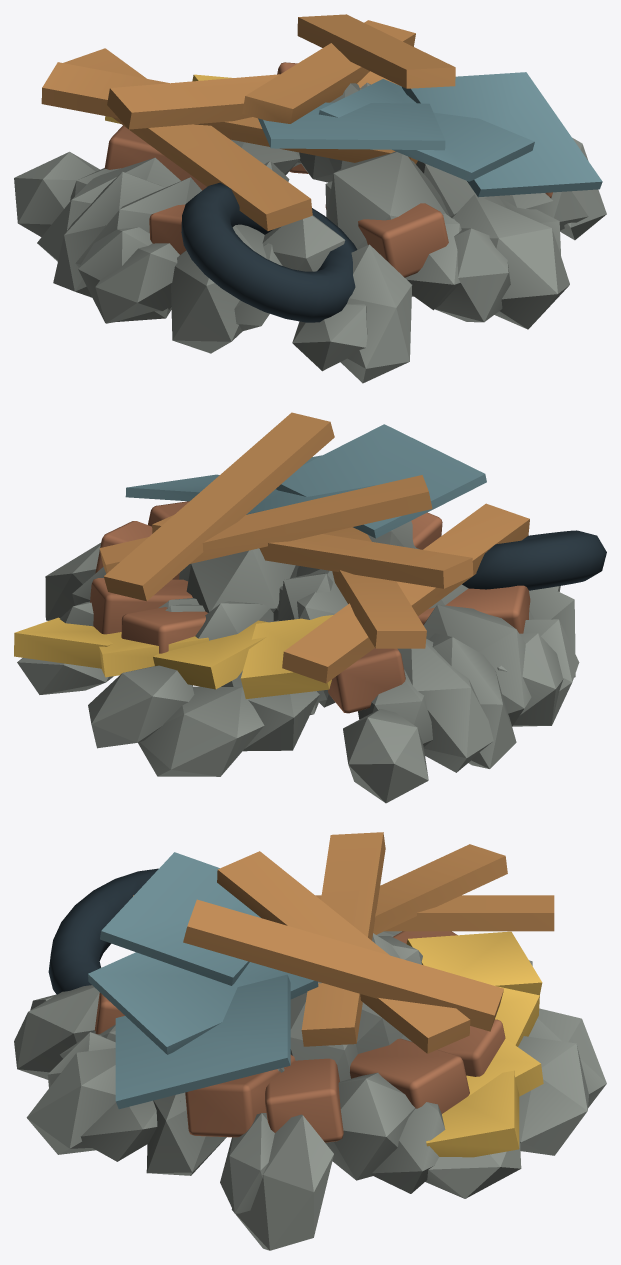
Rendered from industrial-waste.glb.
3 renders of one model, top to bottom at view 1: azimuth 30°, elevation 25°; view 2: azimuth 150°, elevation 25°; view 3: azimuth 270°, elevation 25°, orthographic. The views are drawn at different scales.
Parts seen in each view (by area): view 1: broken concrete, splintered pallet plank, bent sheet panel, discarded tyre, chipped brick; view 2: broken concrete, splintered pallet plank, creased packaging, chipped brick, bent sheet panel, discarded tyre; view 3: broken concrete, splintered pallet plank, bent sheet panel, chipped brick, creased packaging, discarded tyre.
Boxes of the visible parts, box(x1,y1,x2,y2) form: broken concrete: box(14, 82, 606, 383); splintered pallet plank: box(41, 14, 455, 230); bent sheet panel: box(258, 72, 602, 197); discarded tyre: box(181, 182, 357, 322); chipped brick: box(104, 62, 552, 277); broken concrete: box(17, 521, 579, 803); splintered pallet plank: box(99, 412, 529, 683); creased packaging: box(14, 615, 332, 698); chipped brick: box(90, 501, 530, 713); bent sheet panel: box(125, 424, 486, 538); discarded tyre: box(462, 530, 606, 590); broken concrete: box(14, 931, 606, 1250); splintered pallet plank: box(133, 832, 554, 1053); bent sheet panel: box(88, 852, 318, 1109); chipped brick: box(94, 931, 505, 1142); creased packaging: box(406, 931, 543, 1157); discarded tyre: box(48, 868, 158, 994).
Bounding box in the file's own units: 1.08 × 0.4889 × 1.06.
